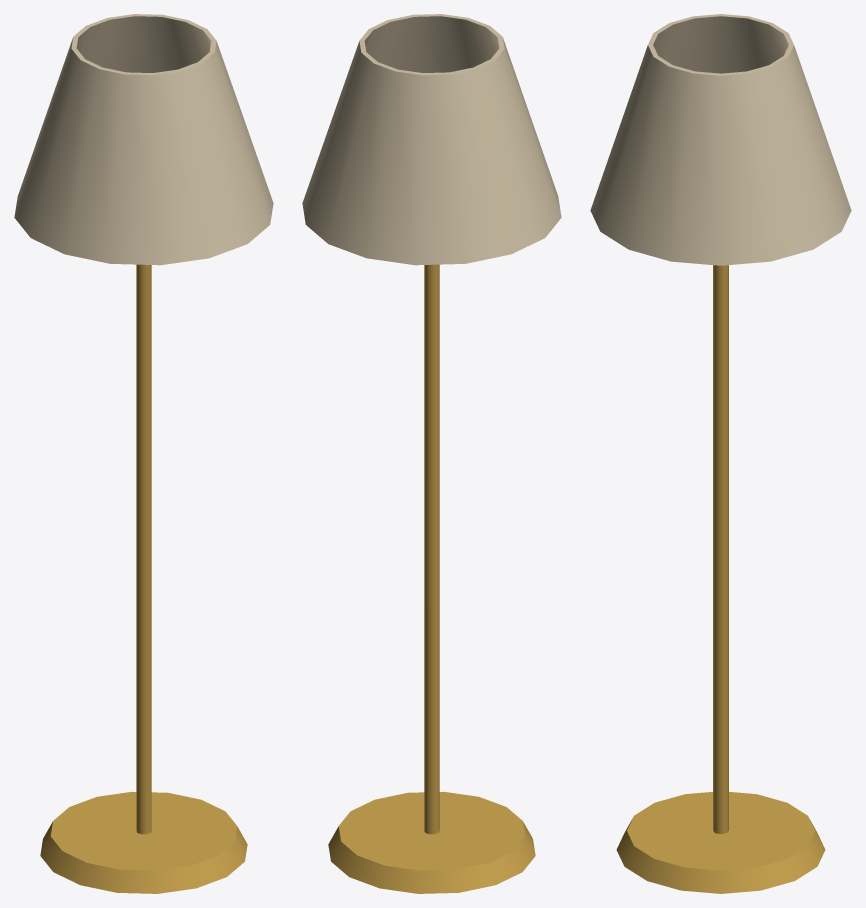
Rendered from floor_lamp.glb.
3 renders of one model, left to right at view 1: azimuth 30°, elevation 25°; view 2: azimuth 150°, elevation 25°; view 3: azimuth 270°, elevation 25°, orthographic.
Parts seen in each view (by area): view 1: main; view 2: main; view 3: main.
Boxes of the visible parts, <box> form: main: <box>14,14,273,893</box>; main: <box>302,14,561,893</box>; main: <box>590,14,851,893</box>.
Size of the model in its own units: 0.5 by 1.7 by 0.5.
